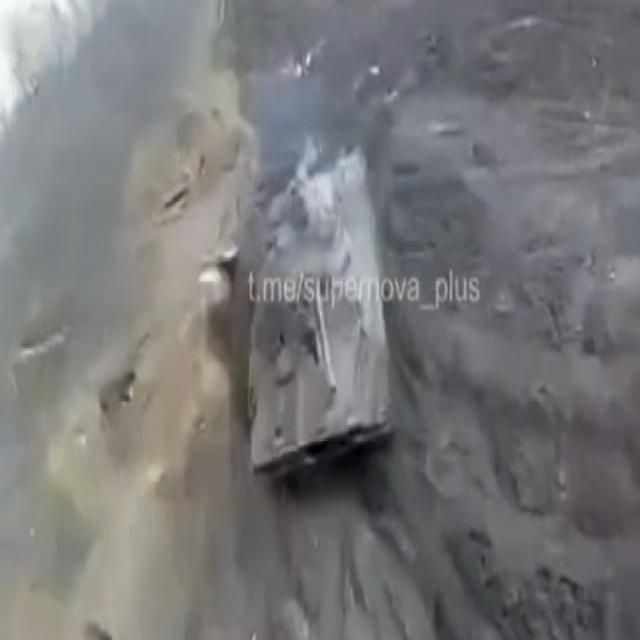APC-IFV: (231, 131, 404, 493)
